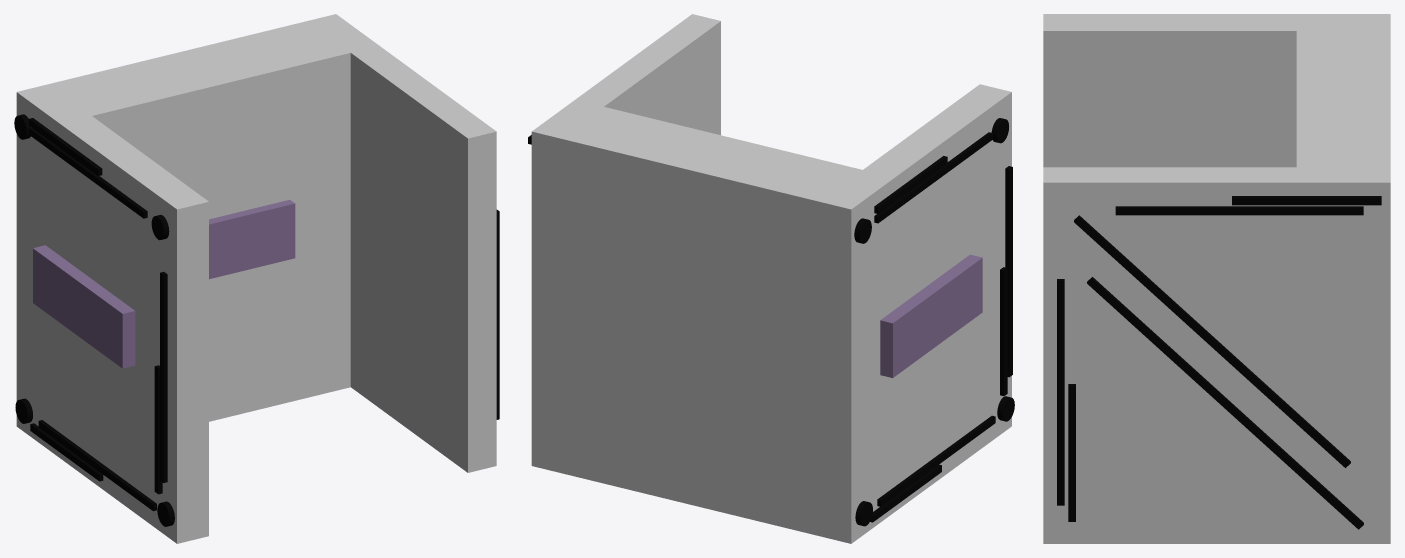
Rendered from rececptor negativo.fbx.
3 renders of one model, left to right at view 1: azimuth 30°, elevation 25°; view 2: azimuth 150°, elevation 25°; view 3: azimuth 270°, elevation 25°, orthographic. The views are drawn at different scales.
Visible parts, largest first — view 1: pCube4_polySurface3; view 2: pCube4_polySurface3; view 3: pCube4_polySurface3.
Boxes of the visible parts, bbox=[...] form: pCube4_polySurface3: bbox=[14, 14, 499, 543]; pCube4_polySurface3: bbox=[528, 14, 1014, 543]; pCube4_polySurface3: bbox=[1043, 14, 1390, 543].
Bounding box in the file's own units: 2.19 × 2.05 × 1.79.
